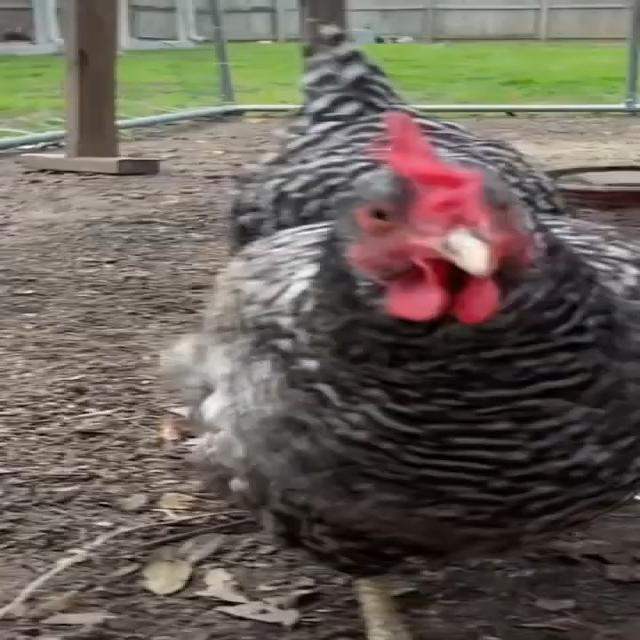menacing: (131, 2, 640, 612)
